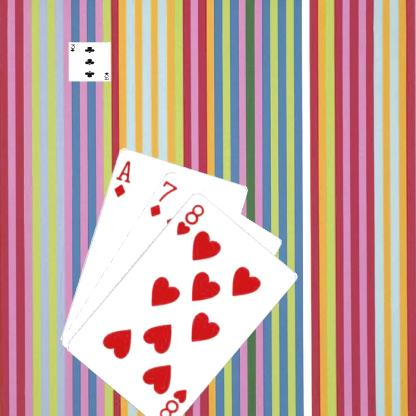7D: (147, 178, 179, 218)
8H: (174, 201, 206, 236), (156, 385, 188, 416)
AD: (111, 158, 132, 198)
